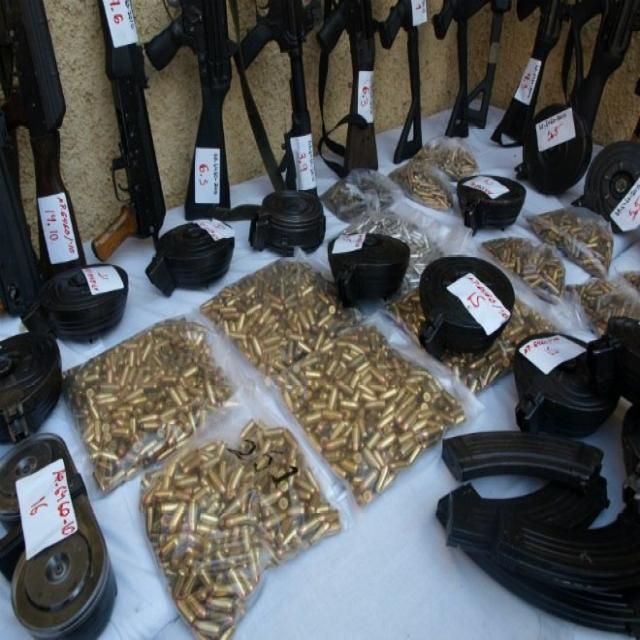firearm: (0, 0, 86, 278), (144, 0, 233, 217), (96, 0, 166, 257), (238, 0, 320, 195), (317, 0, 381, 175), (496, 0, 569, 144), (377, 0, 426, 165), (468, 0, 514, 130), (430, 0, 472, 139)
